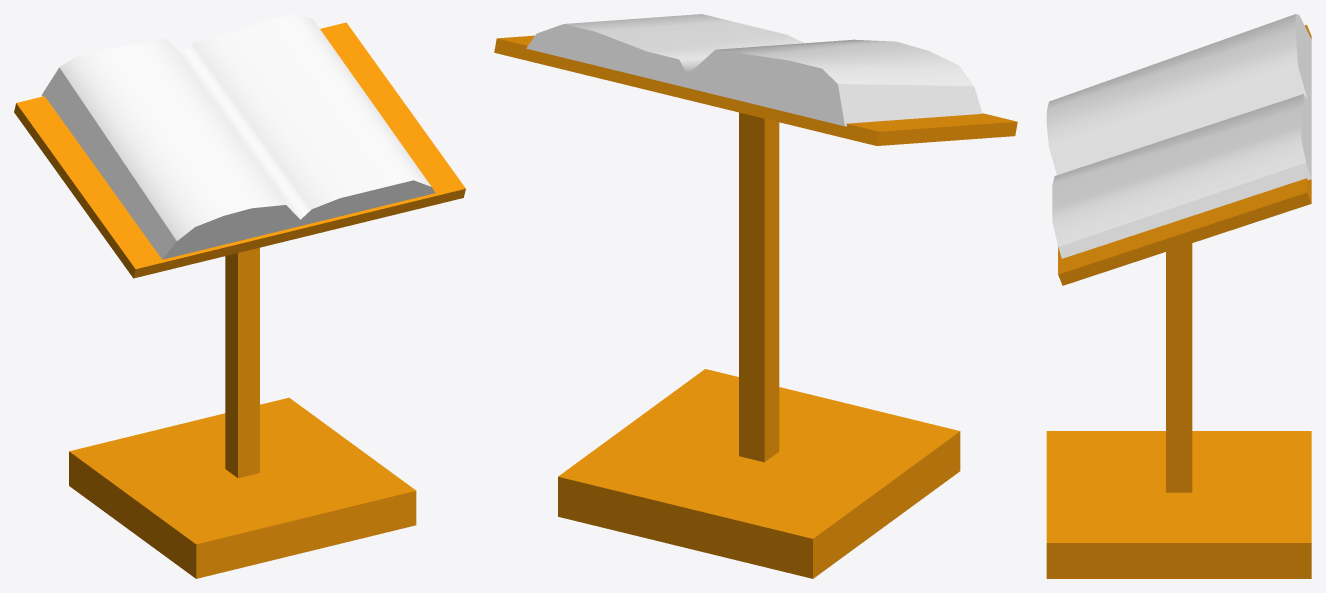
File: book_stand.fbx
3 renders of one model, left to right at view 1: azimuth 30°, elevation 25°; view 2: azimuth 150°, elevation 25°; view 3: azimuth 270°, elevation 25°, orthographic. The views are drawn at different scales.
Visible parts, largest first — view 1: book_stand; view 2: book_stand; view 3: book_stand.
Part boxes in pixels (x1,y1,x2,y2): book_stand: (14,14,465,578); book_stand: (494,14,1017,578); book_stand: (1046,14,1311,578).
Size of the model in its own units: 3 by 3.78 by 2.
1 material, 1 textured.
